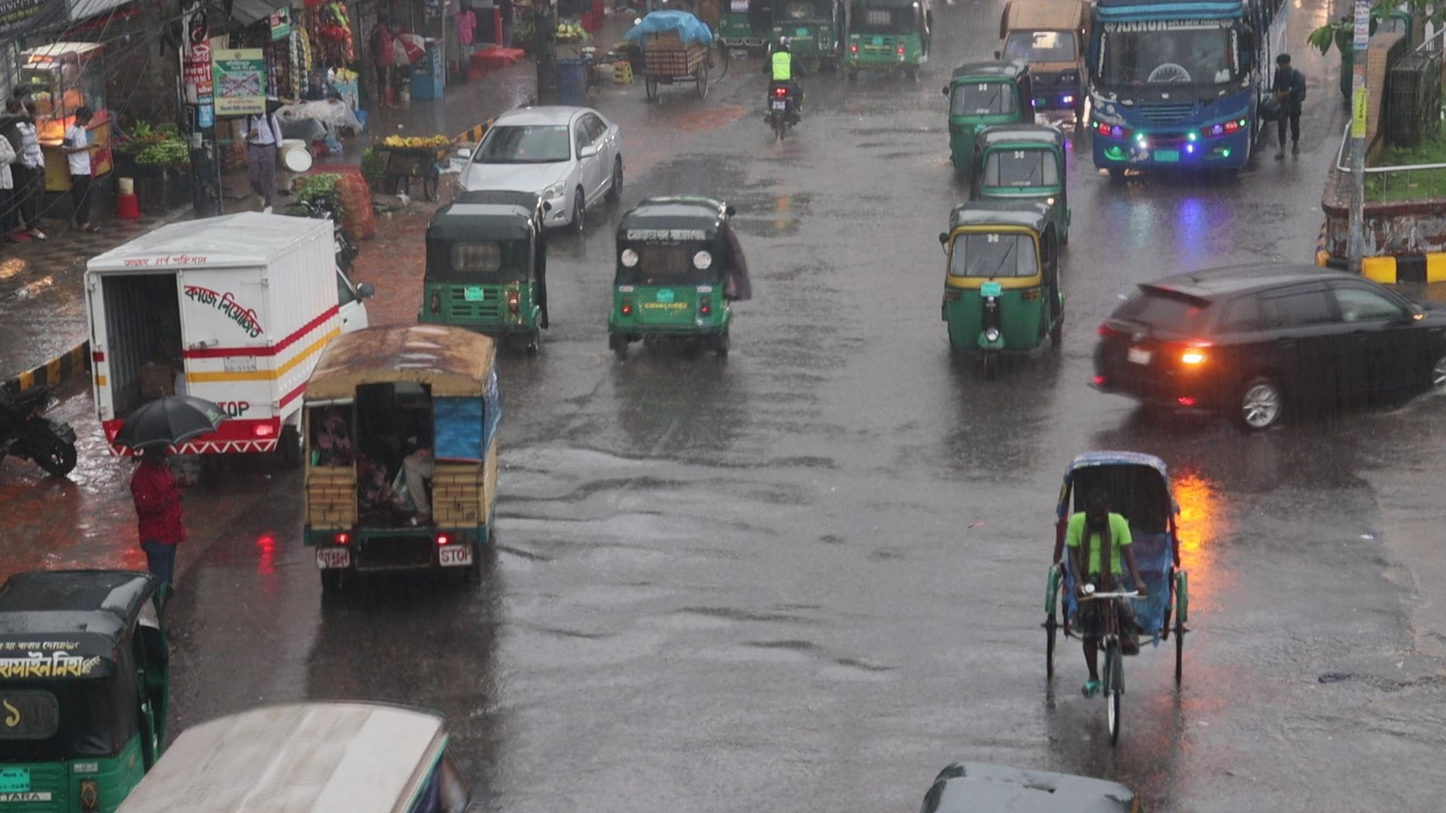Bike: (761, 35, 807, 138)
Car: (1089, 262, 1446, 431)
Truck: (297, 323, 503, 582)
